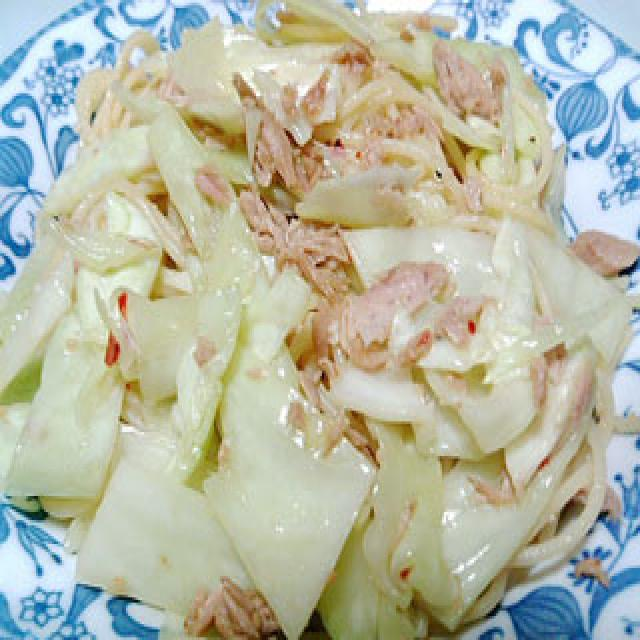蔬菜料理: (14, 26, 640, 640)
